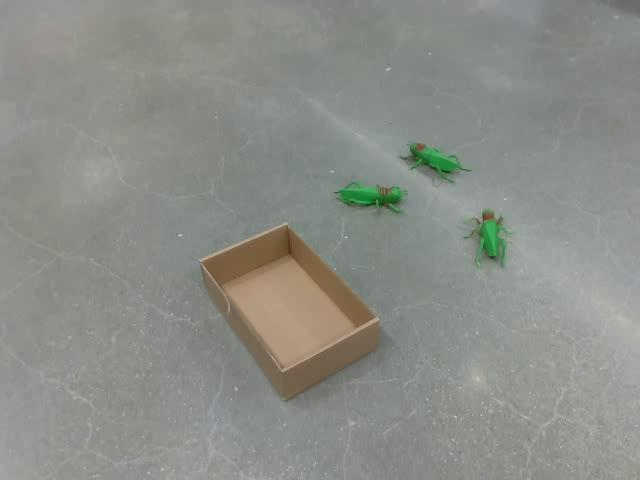box: (197, 222, 380, 401)
grasshopper: (399, 140, 472, 184), (463, 207, 514, 268), (333, 180, 407, 213)
